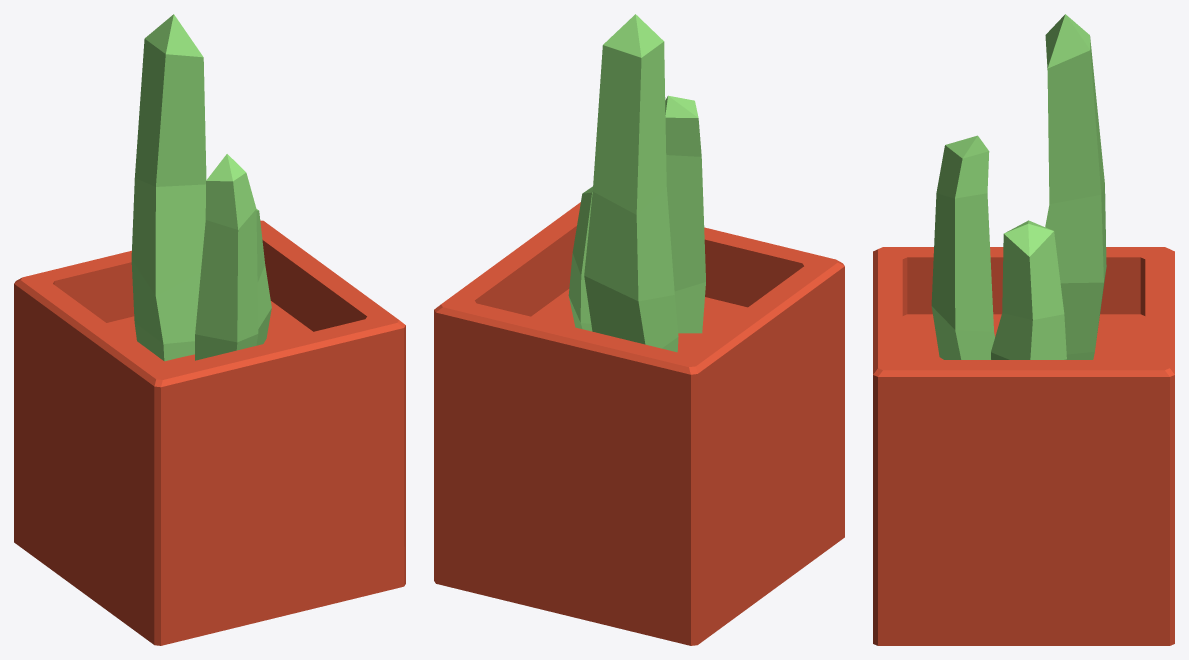
The model's file is plant02.fbx.
The picture shows the model from 3 angles, left to right: view 1: azimuth 30°, elevation 25°; view 2: azimuth 150°, elevation 25°; view 3: azimuth 270°, elevation 25°; orthographic projection. The views are drawn at different scales.
Parts seen in each view (by area): view 1: Cylinder.008; view 2: Cylinder.008; view 3: Cylinder.008.
Part boxes in pixels (x1,y1,x2,y2): Cylinder.008: (14, 14, 405, 645); Cylinder.008: (434, 14, 844, 645); Cylinder.008: (873, 14, 1174, 645).
Size of the model in its own units: 30.31 by 62.04 by 30.31.
